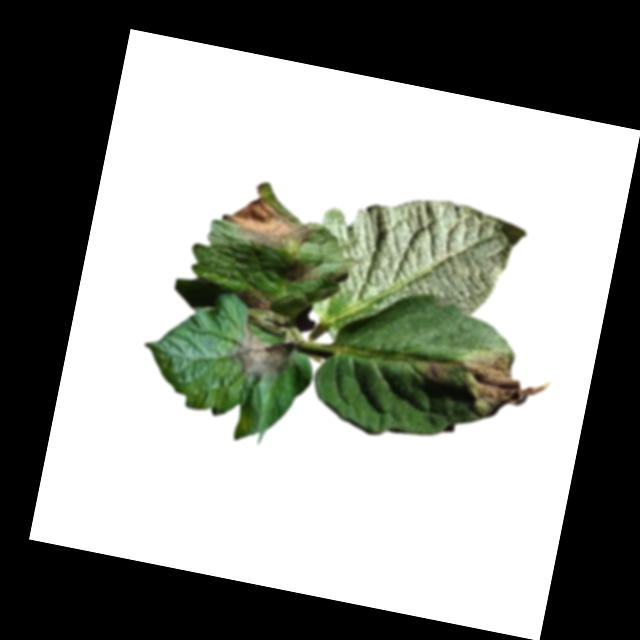Late_blight: (447, 338, 556, 429), (218, 189, 321, 256), (230, 324, 299, 390), (233, 284, 278, 312), (282, 258, 319, 287), (423, 359, 450, 384)
healthy: (300, 178, 528, 373)
